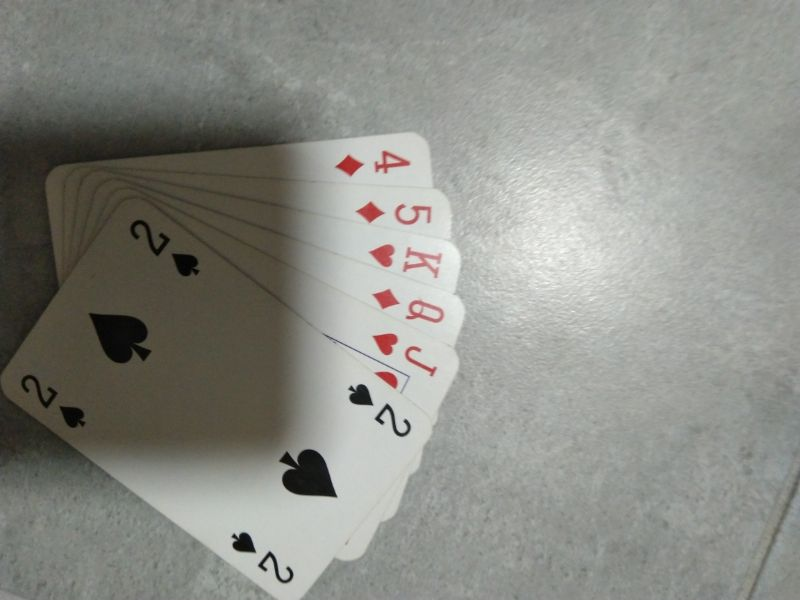2s: (127, 216, 205, 284), (341, 377, 415, 438), (17, 369, 88, 430), (228, 527, 298, 586)
4d: (331, 139, 417, 185)
5d: (351, 197, 438, 229)
Jh: (370, 326, 441, 380)
Kh: (366, 239, 446, 284)
Qd: (369, 281, 448, 329)
